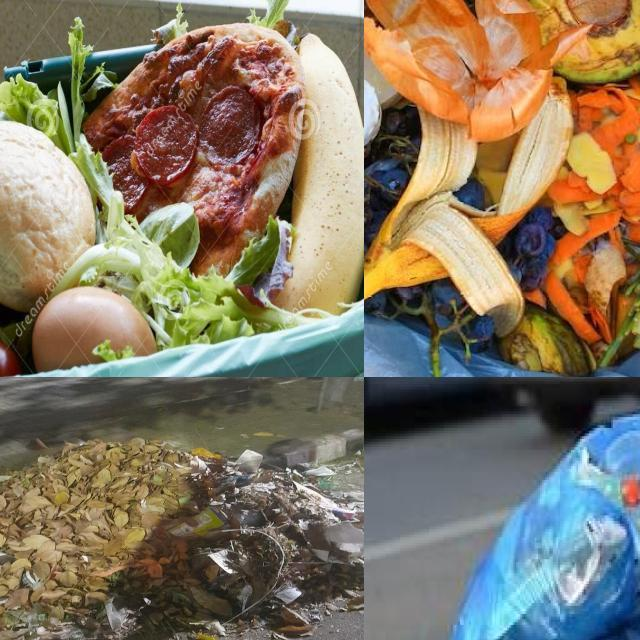Disposable: (237, 584, 253, 612)
Garbage: (0, 0, 364, 373), (364, 0, 640, 377), (0, 438, 364, 640), (441, 406, 640, 640)
Plastic_Bag: (449, 405, 640, 640), (106, 598, 128, 632), (235, 449, 262, 474)
Plastic_wraper: (168, 508, 226, 537)
